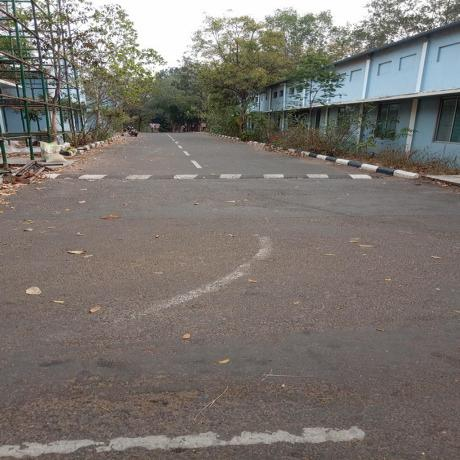Speed Bump: (39, 171, 395, 182)
